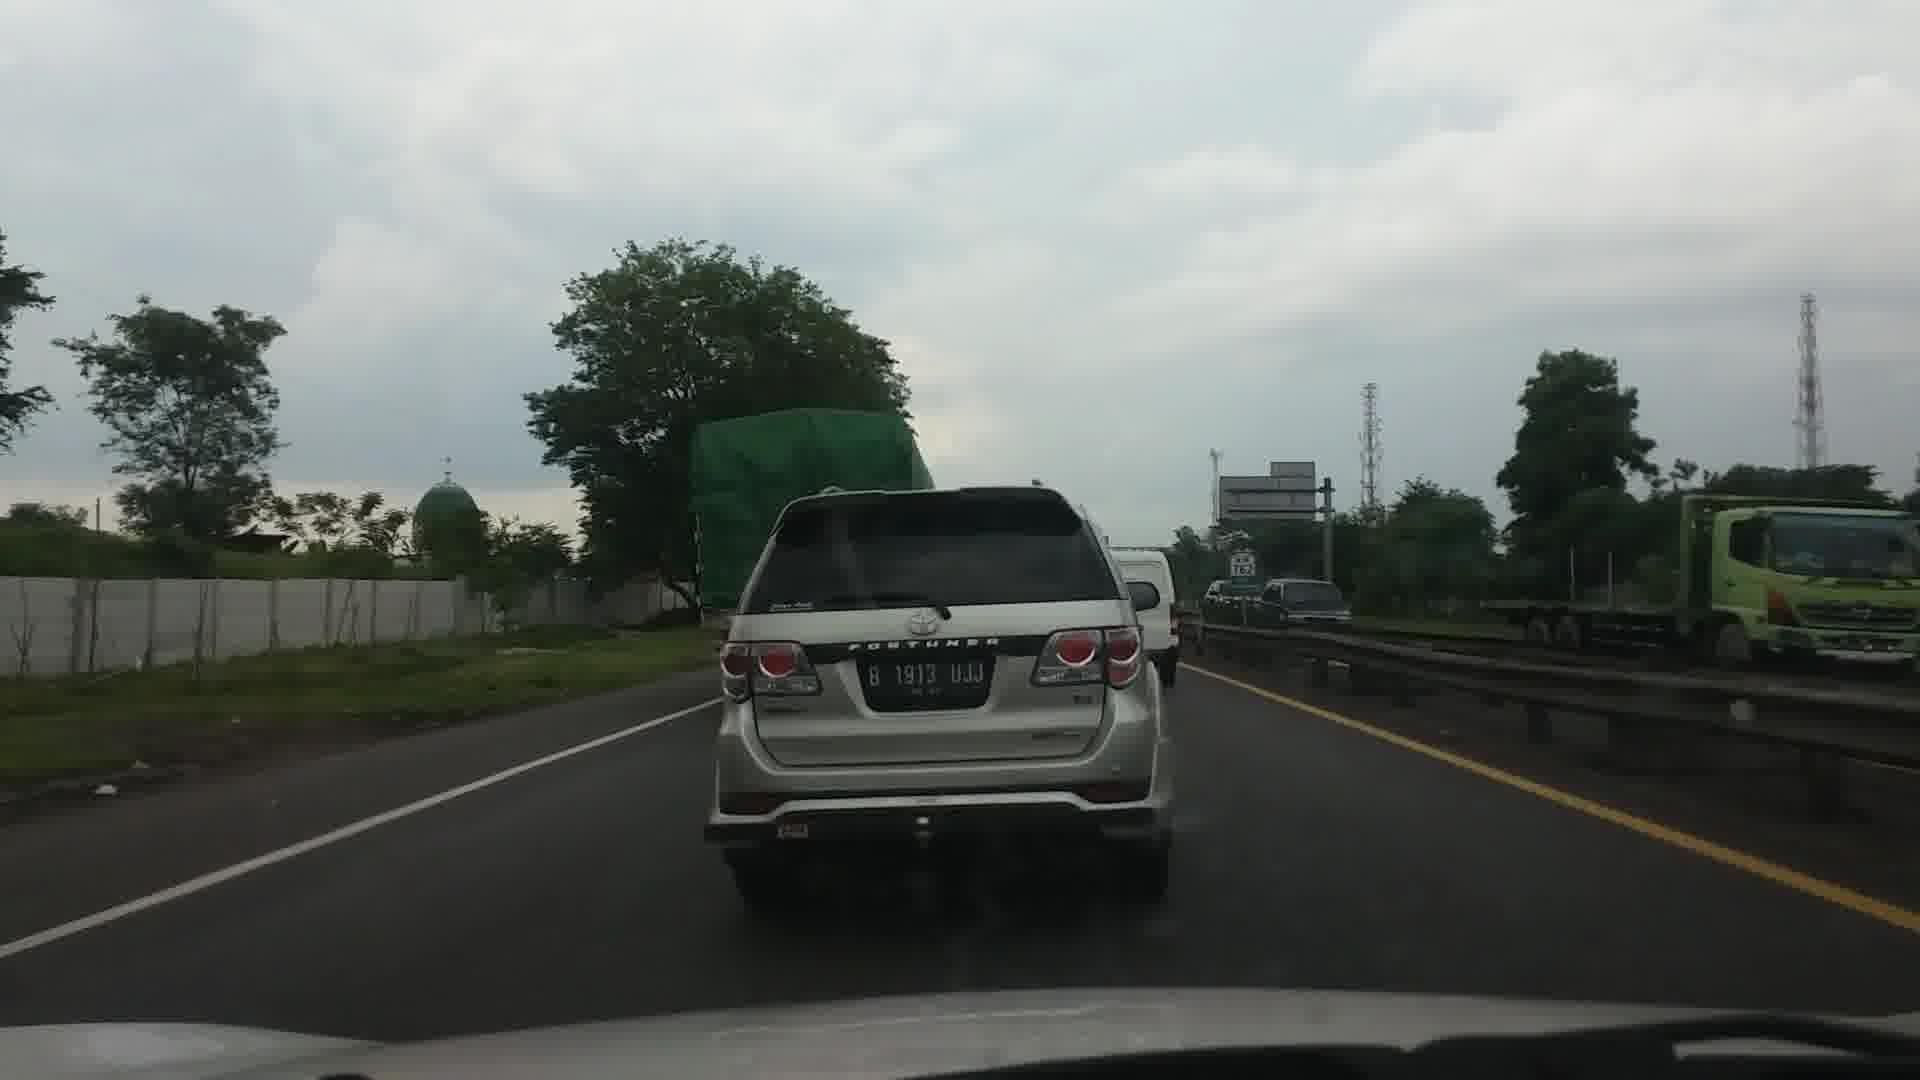plate_positive: (865, 658, 988, 700)
